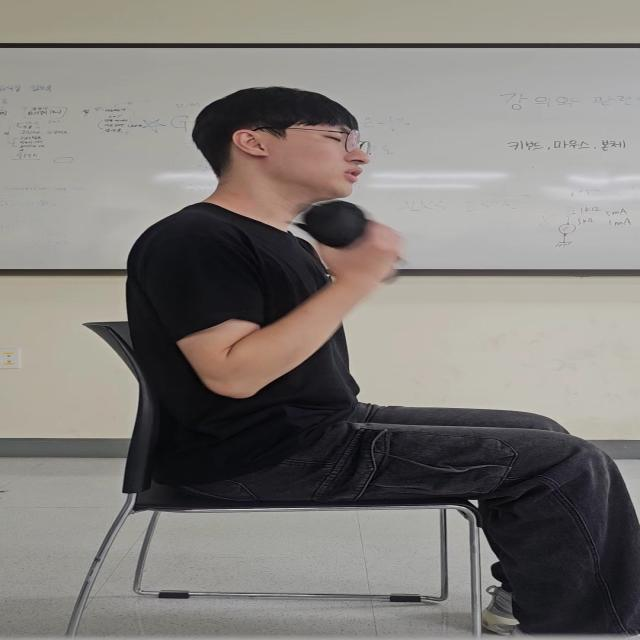curl: (157, 231, 325, 402)
